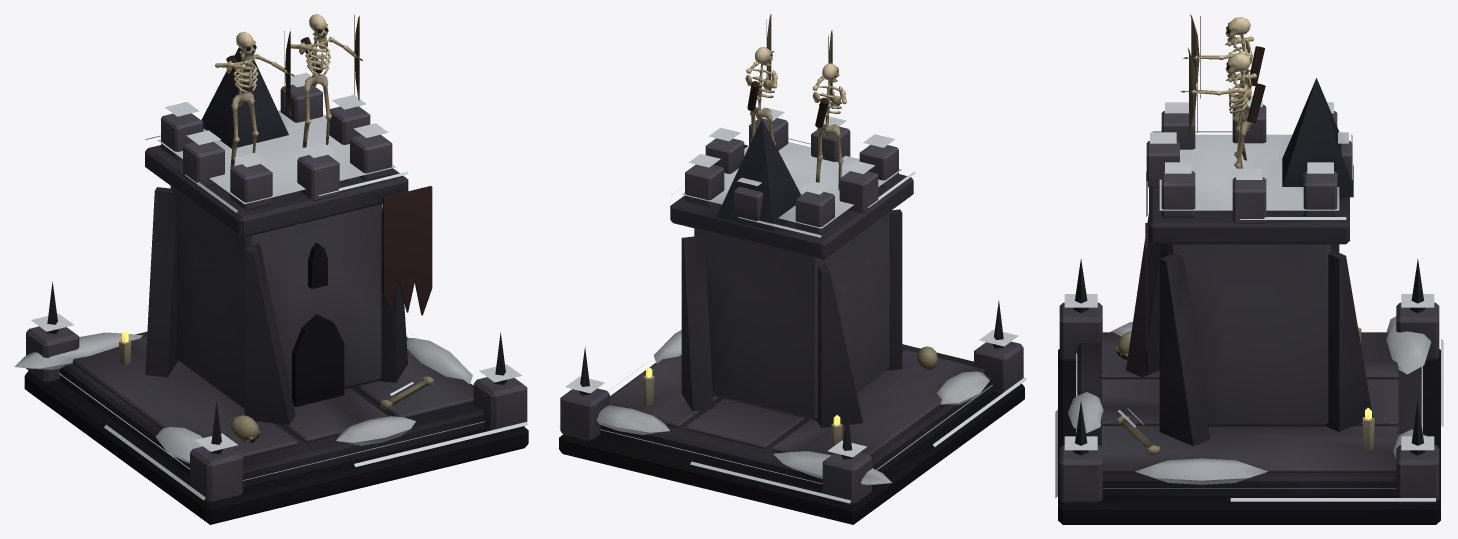
The model's file is ombres-0.glb.
3 renders of one model, left to right at view 1: azimuth 30°, elevation 25°; view 2: azimuth 150°, elevation 25°; view 3: azimuth 270°, elevation 25°, orthographic. The views are drawn at different scales.
Visible parts, largest first — view 1: ombres_0_architecture, Tourelle_peint, Tourelle_peint.001; view 2: ombres_0_architecture, Tourelle_peint, Tourelle_peint.001; view 3: ombres_0_architecture, Tourelle_peint, Tourelle_peint.001.
Part boxes in pixels (left/top/right/bottom): ombres_0_architecture: left=14, top=47, right=528, bottom=524; Tourelle_peint: left=215, top=14, right=359, bottom=167; Tourelle_peint.001: left=226, top=14, right=362, bottom=116; ombres_0_architecture: left=559, top=107, right=1026, bottom=524; Tourelle_peint: left=745, top=47, right=846, bottom=190; Tourelle_peint.001: left=747, top=14, right=832, bottom=127; ombres_0_architecture: left=1055, top=78, right=1443, bottom=524; Tourelle_peint: left=1188, top=17, right=1256, bottom=168; Tourelle_peint.001: left=1180, top=14, right=1265, bottom=135.
Size of the model in its own units: 0.8655 by 0.9794 by 0.811.
4 materials, 1 textured.
